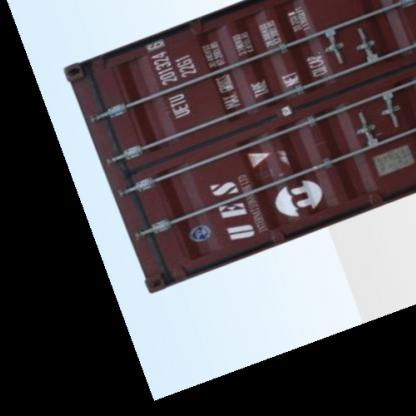Damage: (134, 229, 186, 287), (248, 154, 286, 182)
